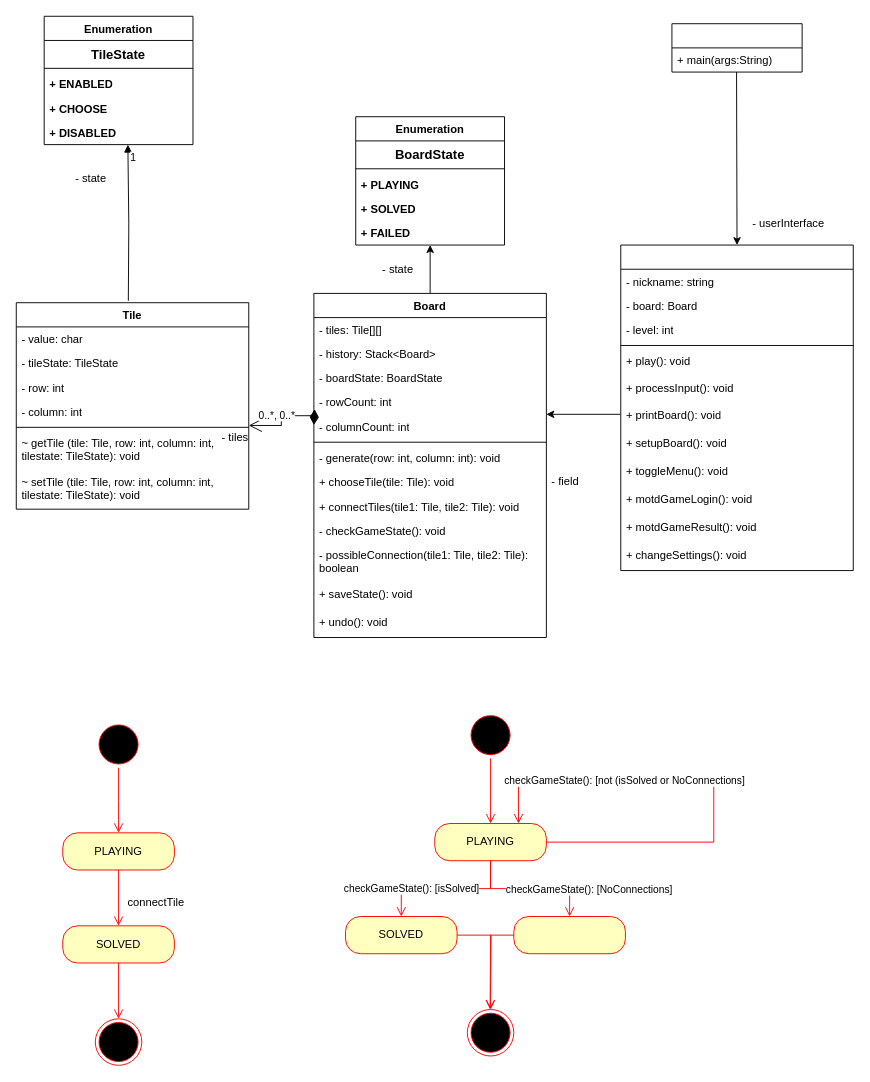
Image size: 870x1082. Some labels were removed from this diagram. The shapes that lost their labels are listed below. From the top down, each one's box as (x1, y1, x2, y2) in pixels, then its label:
(671, 23, 802, 72): TapTiles
(620, 244, 853, 571): ConsoleUI
(513, 916, 625, 954): FAILED
